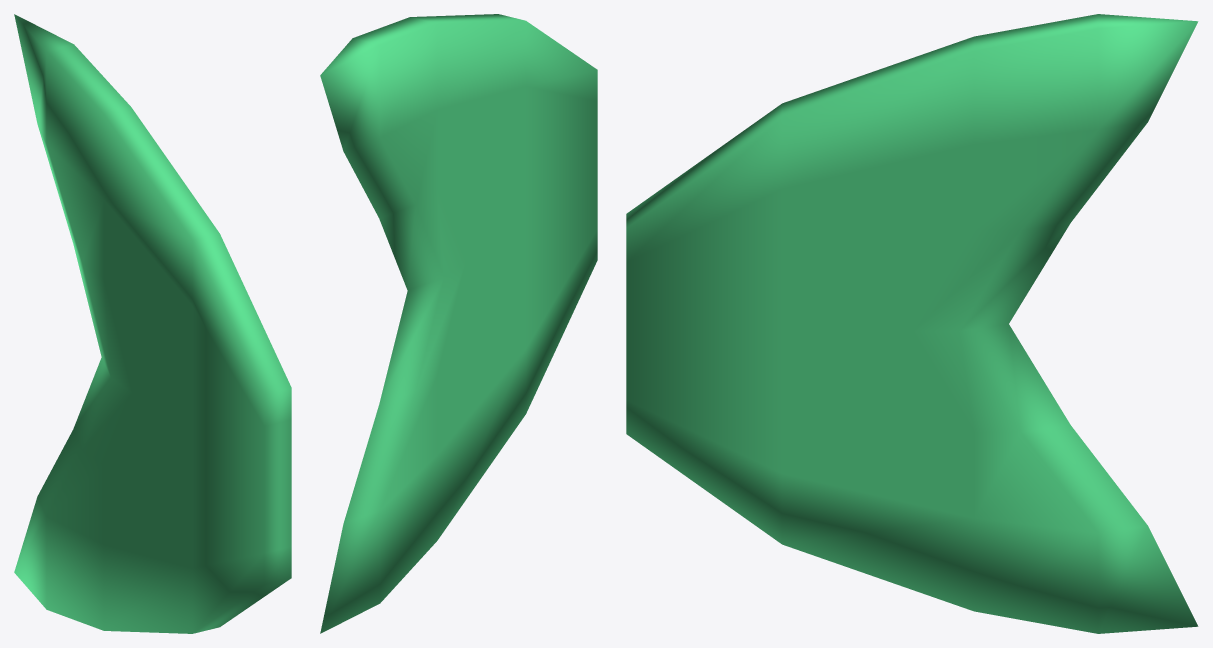
File: pectoral-fin.obj
3 renders of one model, left to right at view 1: azimuth 30°, elevation 25°; view 2: azimuth 150°, elevation 25°; view 3: azimuth 270°, elevation 25°, orthographic. The views are drawn at different scales.
Visible parts, largest first — view 1: Box002; view 2: Box002; view 3: Box002.
Boxes of the visible parts, <box> form: Box002: <box>14,14,291,633</box>; Box002: <box>320,14,597,633</box>; Box002: <box>626,14,1198,633</box>.
Size of the model in its own units: 0.2198 by 4.26 by 3.64.
